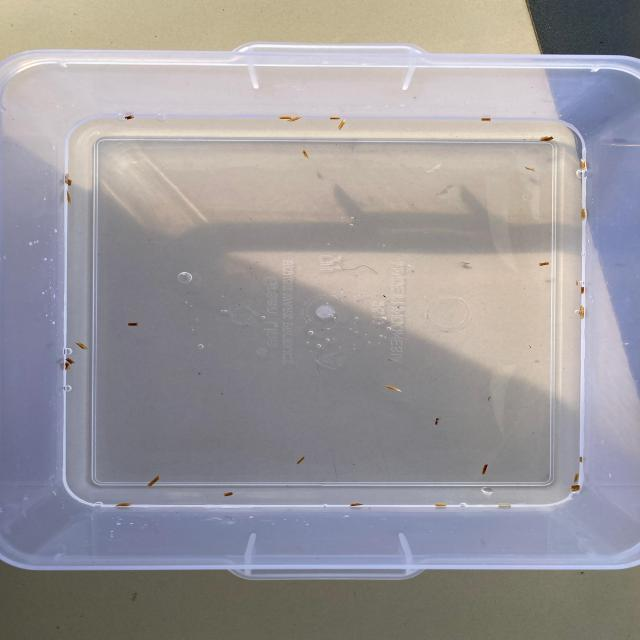Wereng: (73, 341, 92, 355), (386, 383, 408, 395), (574, 279, 590, 295), (146, 474, 164, 488), (578, 205, 593, 221), (343, 500, 366, 510), (430, 414, 446, 428), (300, 148, 316, 162), (63, 174, 79, 188), (533, 258, 555, 268), (521, 164, 542, 174), (433, 500, 453, 510), (578, 304, 590, 320), (578, 154, 590, 170), (534, 135, 558, 143), (292, 455, 309, 466), (493, 503, 516, 511), (481, 462, 493, 477), (476, 115, 496, 124), (115, 500, 134, 509), (336, 120, 350, 132), (221, 488, 236, 499), (567, 484, 583, 493), (124, 114, 137, 125), (66, 192, 76, 206), (276, 113, 293, 121), (291, 114, 303, 125), (575, 456, 588, 466), (571, 472, 584, 482), (125, 320, 141, 328), (62, 362, 74, 372), (66, 357, 79, 365), (327, 114, 342, 120)
